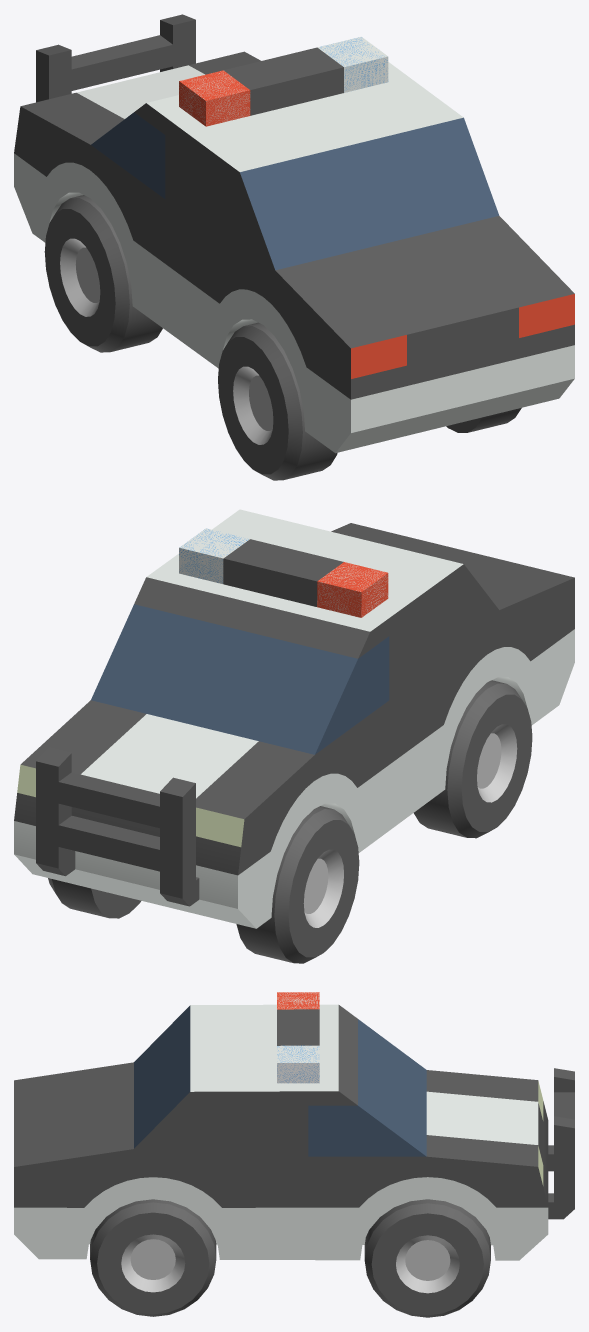
File: carPolice.obj
3 renders of one model, top to bottom at view 1: azimuth 30°, elevation 25°; view 2: azimuth 150°, elevation 25°; view 3: azimuth 270°, elevation 25°, orthographic. The views are drawn at different scales.
Visible parts, largest first — view 1: body 6, wheelBackLeft 6, wheelFrontLeft 6, bar 2, wheelBackRight 6; view 2: body 6, bar 2, wheelFrontLeft 6, wheelBackLeft 6, wheelFrontRight 6; view 3: body 6, wheelFrontRight 6, wheelBackRight 6, bar 2.
Boxes of the visible parts, x1,y1,x2,y2 form: body 6: (14, 36, 574, 453); wheelBackLeft 6: (218, 322, 337, 480); wheelFrontLeft 6: (44, 195, 162, 352); bar 2: (36, 14, 195, 102); wheelBackRight 6: (446, 408, 521, 432); body 6: (14, 509, 574, 928); bar 2: (36, 747, 199, 906); wheelFrontLeft 6: (236, 806, 359, 963); wheelBackLeft 6: (414, 680, 532, 838); wheelFrontRight 6: (48, 878, 141, 918); body 6: (14, 992, 548, 1260); wheelFrontRight 6: (364, 1199, 490, 1317); wheelBackRight 6: (90, 1199, 216, 1316); bar 2: (548, 1068, 574, 1219).
Size of the model in its own units: 4.95 by 6.06 by 12.44.
